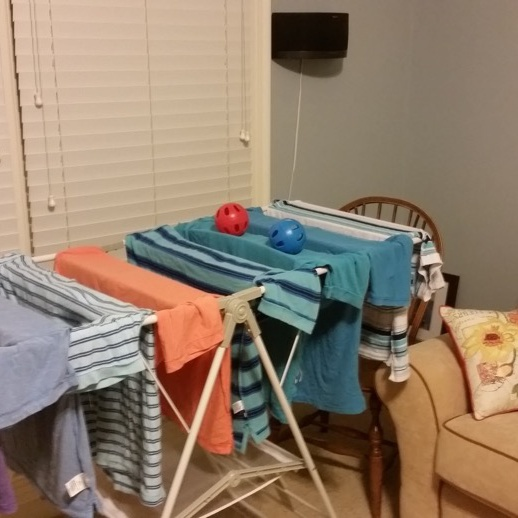blueball: (266, 214, 309, 257)
redball: (213, 200, 251, 238)
